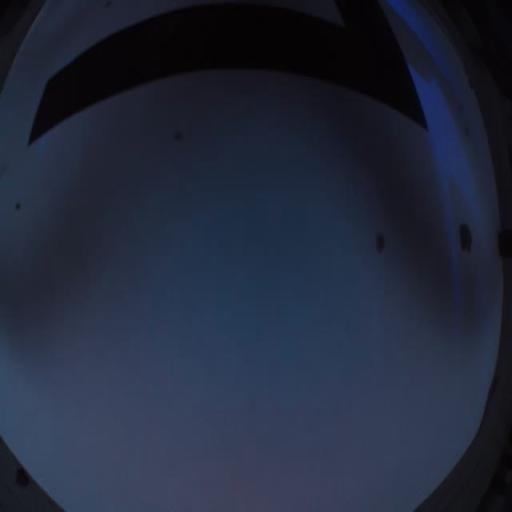V: (26, 0, 430, 147)
